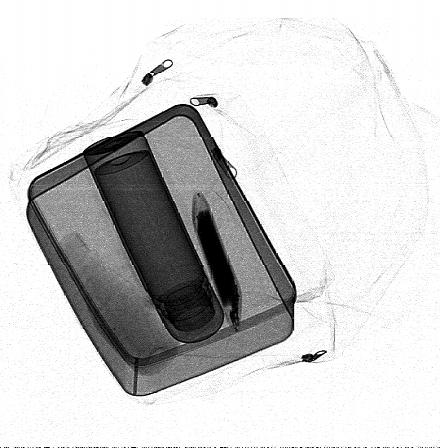Powerbank: (192, 192, 243, 333)
